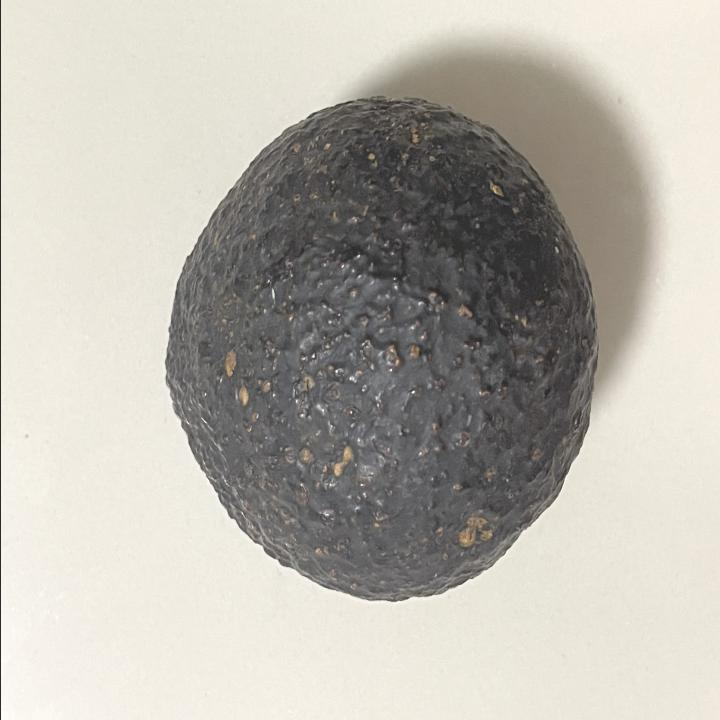Level3: (158, 88, 602, 612)
